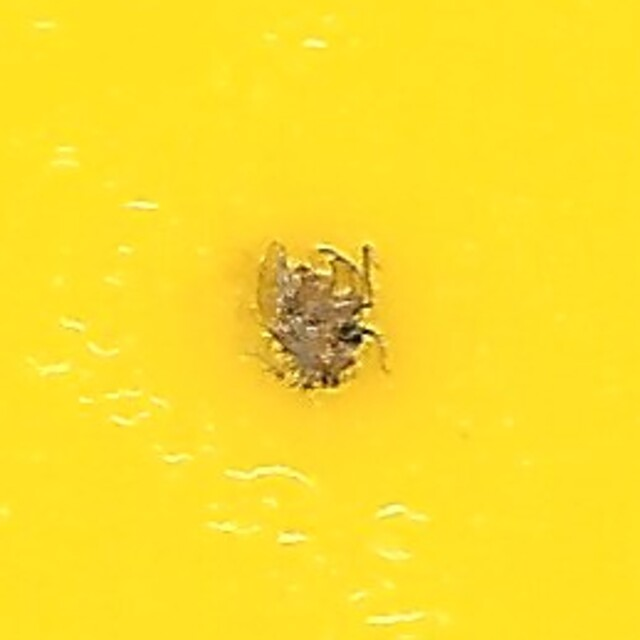Nematocera: (247, 237, 393, 403)
